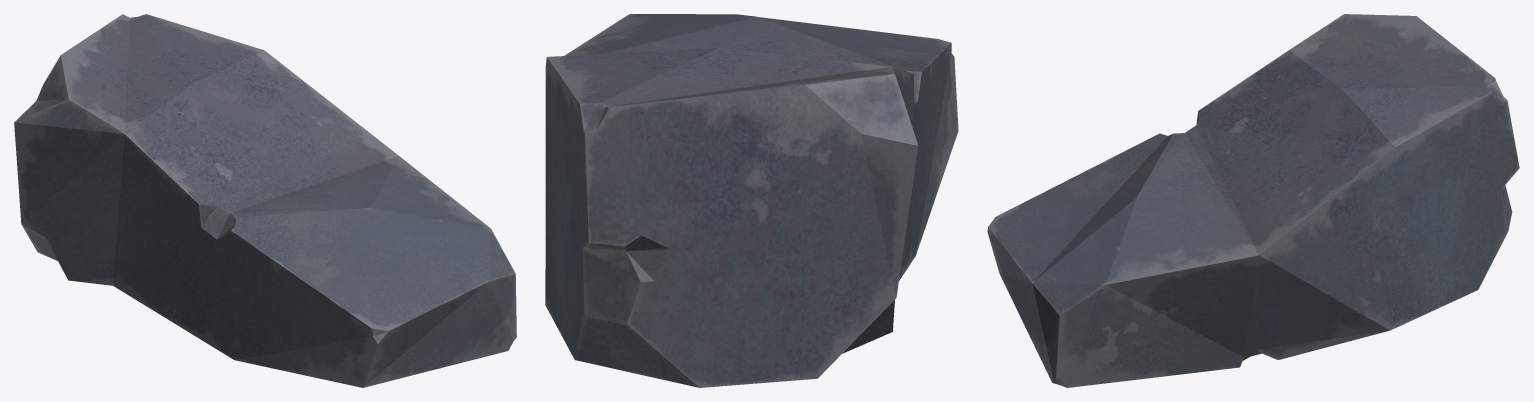
The model's file is rock7.glb.
3 renders of one model, left to right at view 1: azimuth 30°, elevation 25°; view 2: azimuth 150°, elevation 25°; view 3: azimuth 270°, elevation 25°, orthographic. The views are drawn at different scales.
Visible parts, largest first — view 1: Object_60; view 2: Object_60; view 3: Object_60.
Part boxes in pixels (bbox=[...]): Object_60: bbox=[14, 14, 516, 387]; Object_60: bbox=[545, 14, 958, 387]; Object_60: bbox=[987, 14, 1519, 387].
Size of the model in its own units: 2.01 by 1.34 by 2.66.
Materials: 1 (1 with a texture image).
